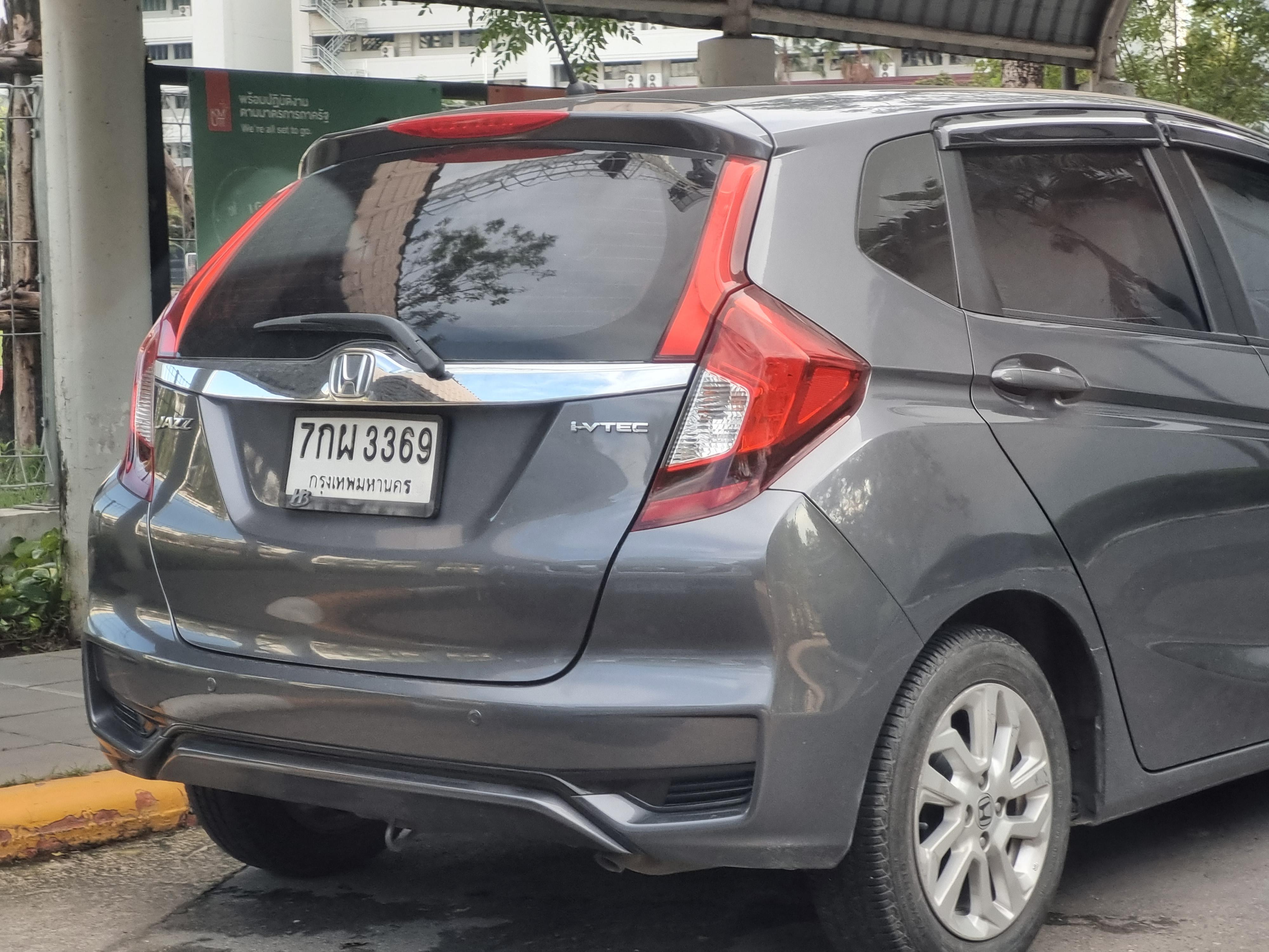license-plate: (280, 395, 447, 513)
